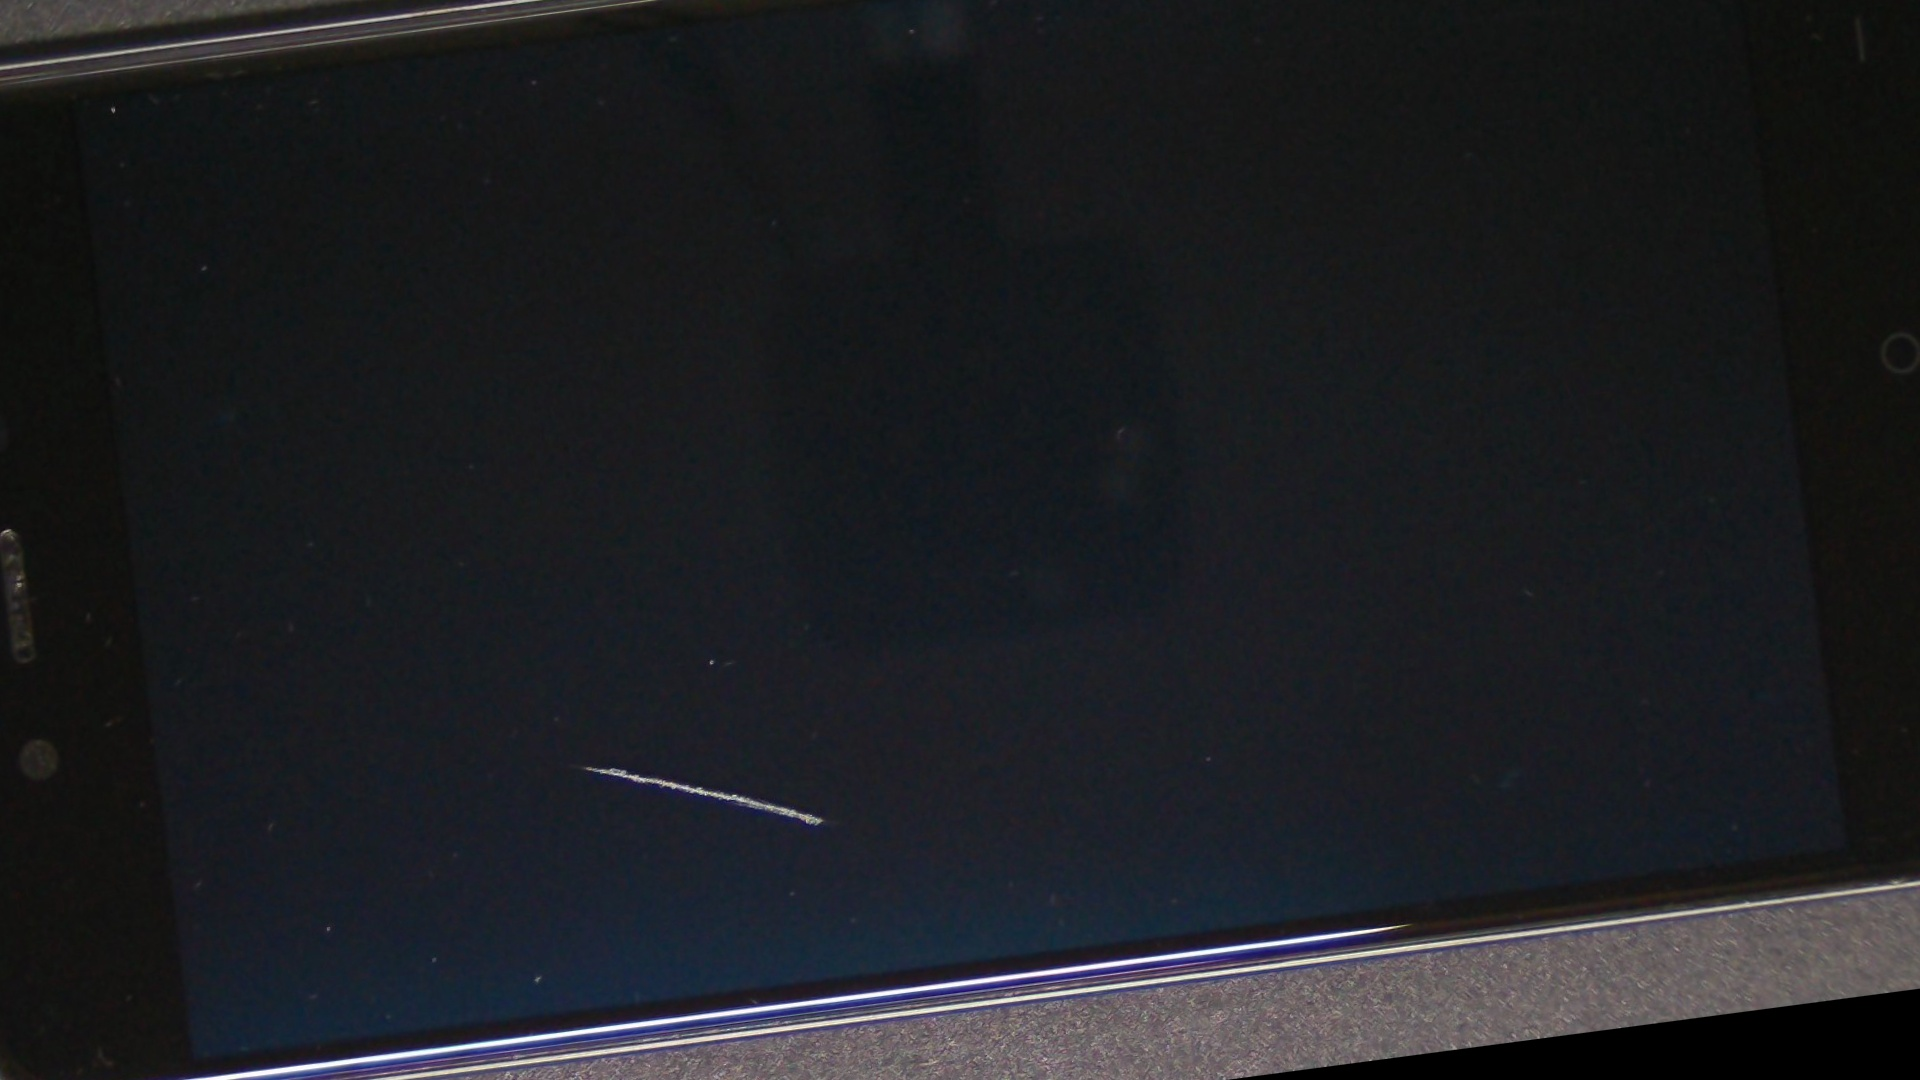oil: (198, 305, 961, 1080)
